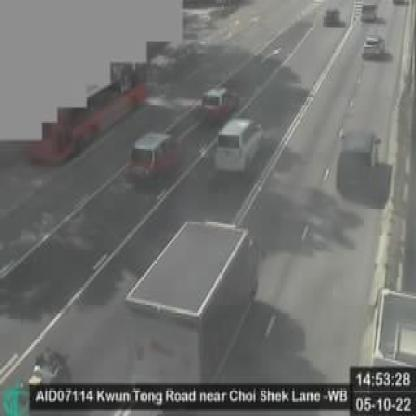Car: (124, 130, 176, 189), (336, 128, 380, 196), (214, 120, 262, 175), (199, 87, 238, 123), (363, 35, 385, 57)
Truck: (125, 220, 259, 381)
